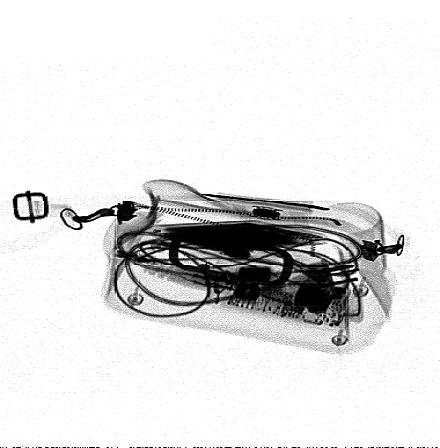Powerbank: (157, 221, 326, 260)
